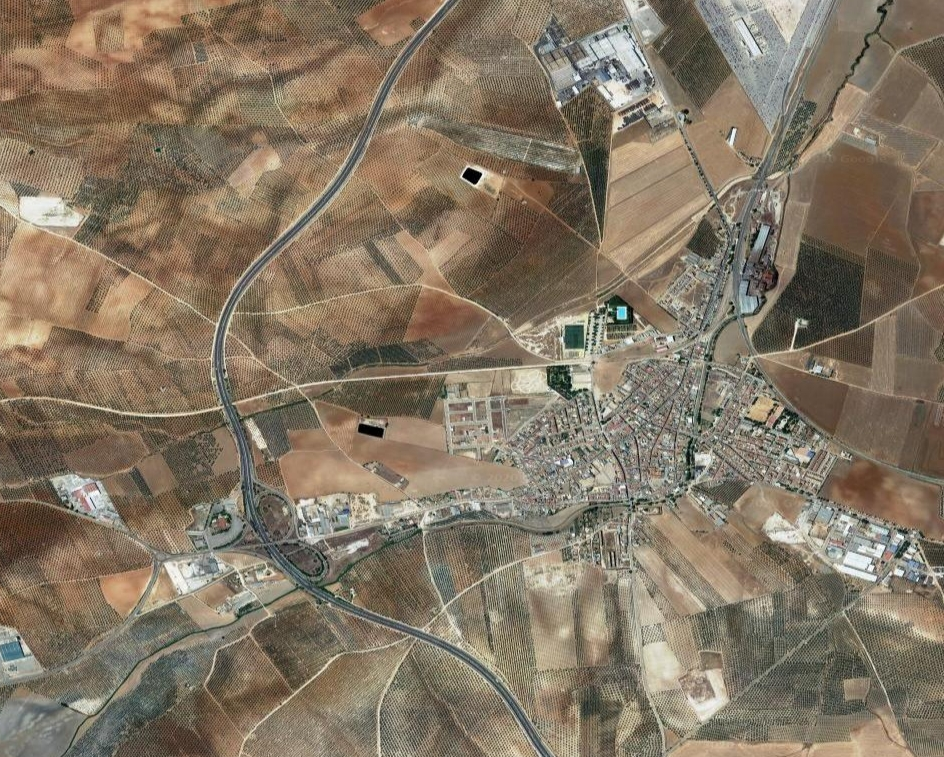industrial: (796, 493, 934, 589), (541, 18, 657, 121)
motorway: (302, 567, 619, 757), (167, 360, 354, 604), (187, 124, 374, 368), (342, 1, 484, 124)
